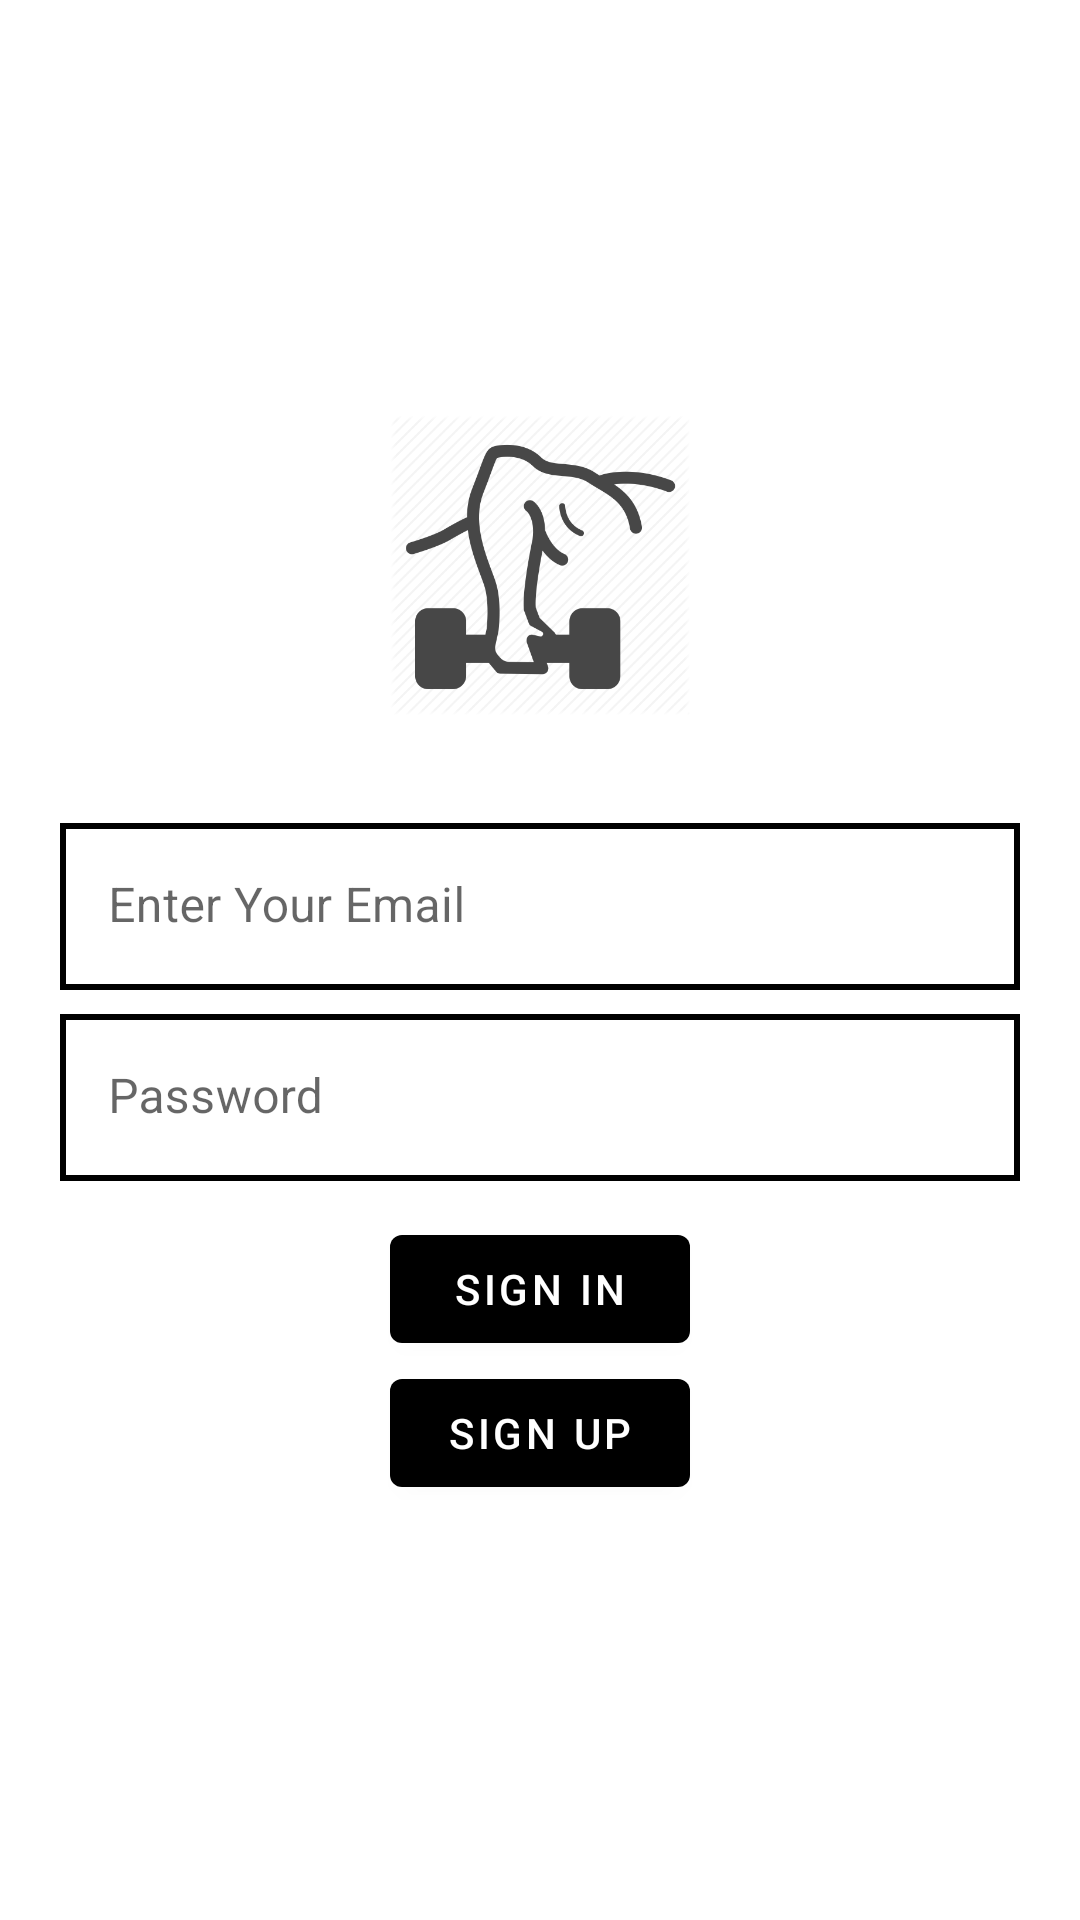

Icon click points for this 1080w x 1920h phone screenshot, format point (x, y):
workout: point (540, 567)
